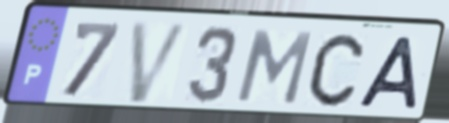3: (186, 23, 242, 107)
7: (63, 18, 124, 101)
A: (355, 35, 421, 112)
C: (306, 31, 367, 109)
M: (232, 28, 316, 108)
V: (126, 20, 194, 106)
